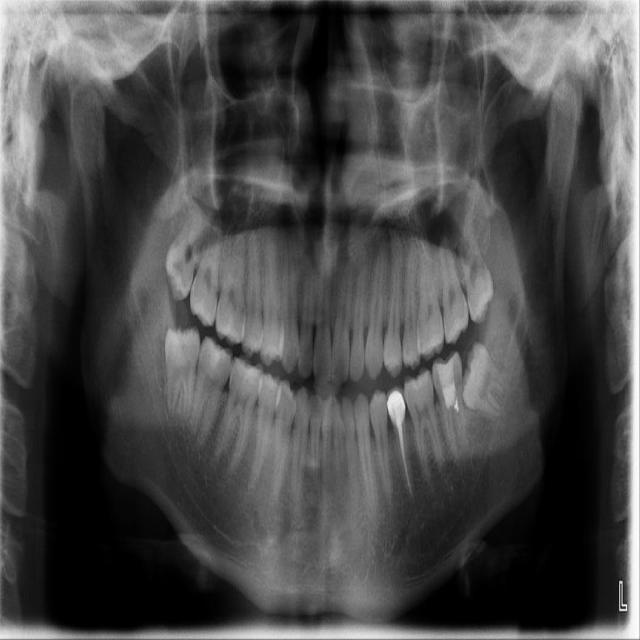Root Canal Treatment: (399, 427, 410, 492)
impacted tooth: (461, 343, 518, 416), (163, 326, 201, 424)
